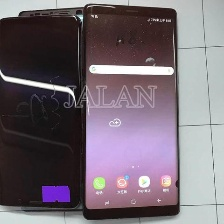phone: (78, 0, 183, 223), (0, 10, 86, 213)
